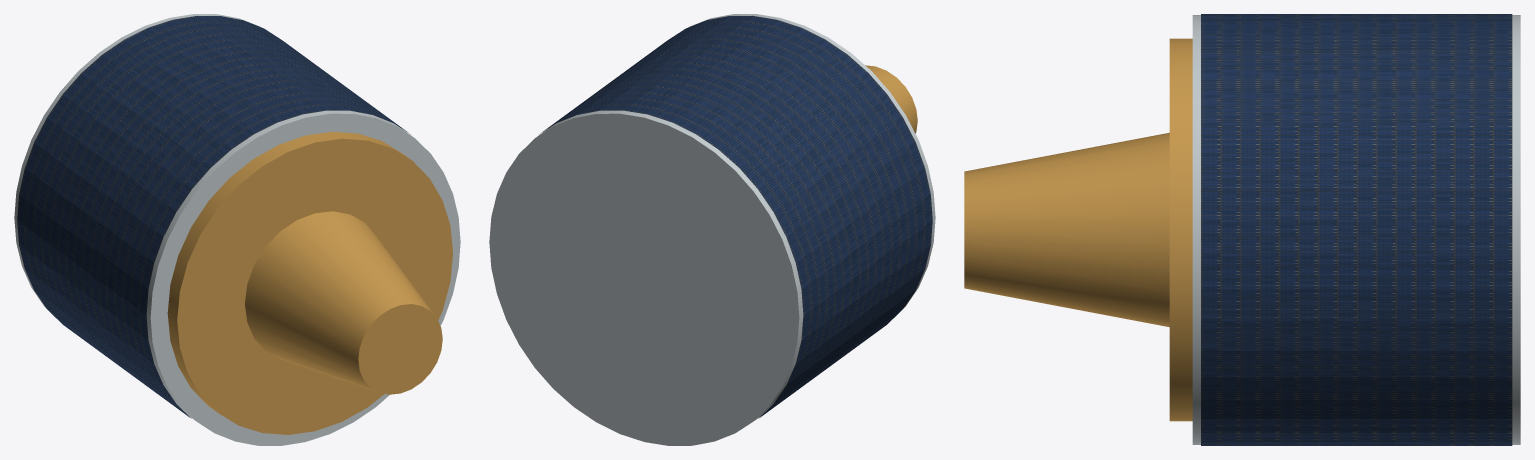
The model's file is ref-hs-303-2514.glb.
The picture shows the model from 3 angles, left to right: view 1: azimuth 30°, elevation 25°; view 2: azimuth 150°, elevation 25°; view 3: azimuth 270°, elevation 25°; orthographic projection. The views are drawn at different scales.
Visible parts, largest first — view 1: Body-mounted solar cells, Despun equipment deck, Axial antenna horn, Solar drum core; view 2: Solar drum core, Body-mounted solar cells, Axial antenna horn; view 3: Body-mounted solar cells, Axial antenna horn, Despun equipment deck, Solar drum core.
Part boxes in pixels (box(x1,y1,x2,y2)): Body-mounted solar cells: box(17, 15, 409, 418); Despun equipment deck: box(167, 131, 452, 434); Axial antenna horn: box(245, 211, 442, 394); Solar drum core: box(14, 14, 460, 445); Solar drum core: box(489, 14, 935, 445); Body-mounted solar cells: box(540, 15, 932, 418); Axial antenna horn: box(865, 65, 917, 133); Body-mounted solar cells: box(1201, 14, 1512, 445); Axial antenna horn: box(964, 132, 1169, 327); Despun equipment deck: box(1169, 38, 1192, 421); Solar drum core: box(1192, 15, 1520, 444).
Size of the model in its own units: 1.41 by 1.41 by 1.81.
Materials: 3 (1 with a texture image).
